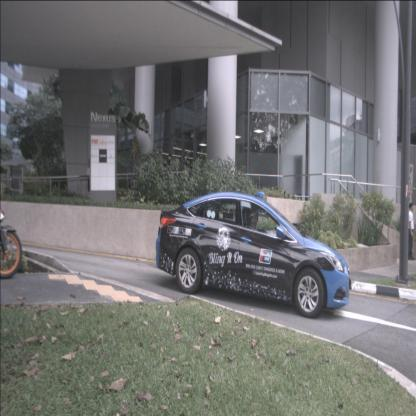human-pedestrian-adult: (165, 154, 172, 184)
vehicle-car: (156, 191, 351, 318)
vehicle-motorcycle: (0, 203, 22, 279)
